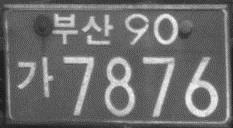0: (151, 12, 180, 46)
6: (181, 53, 221, 118)
7: (59, 53, 95, 117), (139, 53, 175, 117)
8: (102, 54, 136, 117)
9: (124, 10, 151, 47)
가: (15, 54, 55, 99)
부산_O: (51, 10, 114, 47)
